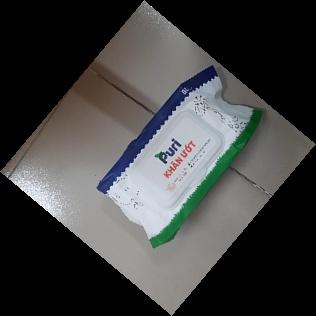Puri Trang: (93, 64, 266, 249)
